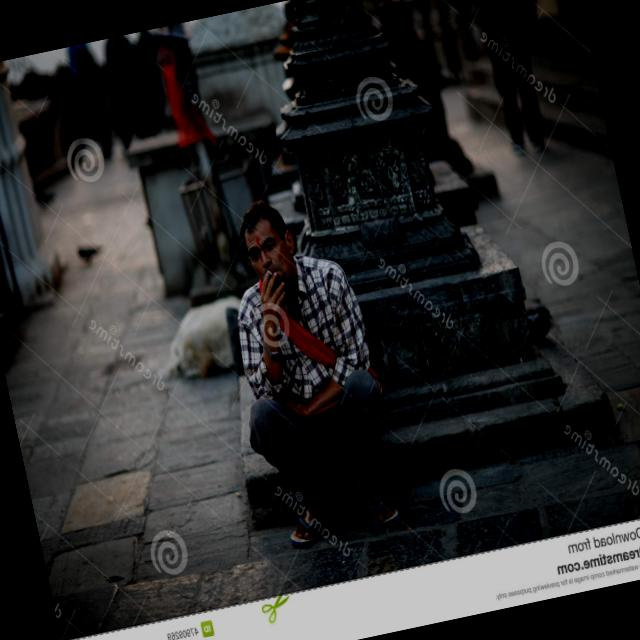smoke: (264, 266, 272, 281)
